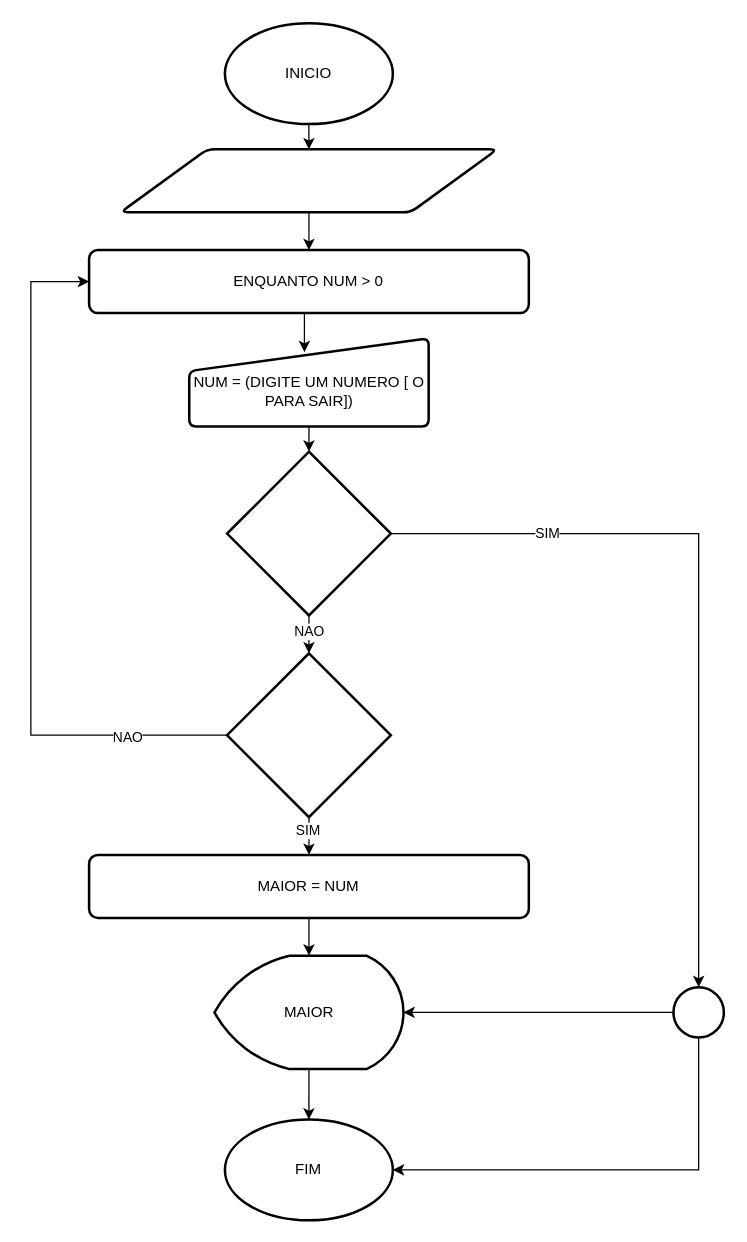
Image size: 747x1242. Some labels were removed from this diagram. The shapes that lost their labels are listed below. From the top down, each one's centre as x and y in pixels, then its label:
At point (308, 180): "MAIOR = 0 NUM".
At point (308, 533): "NUN = 0 ?".
At point (308, 734): "NUM > MAIOR ?".
